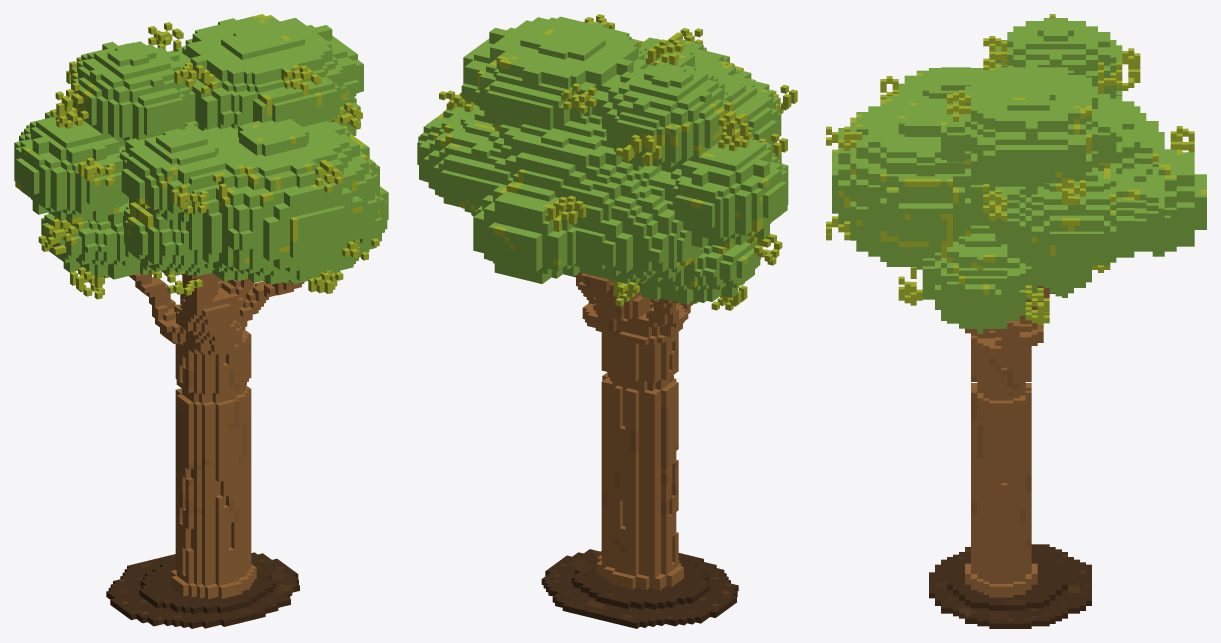
Rendered from 1_0 pitomb.obj.
3 renders of one model, left to right at view 1: azimuth 30°, elevation 25°; view 2: azimuth 150°, elevation 25°; view 3: azimuth 270°, elevation 25°, orthographic.
Size of the model in its own units: 6.3 by 9.8 by 6.3.
1 material, 1 textured.
